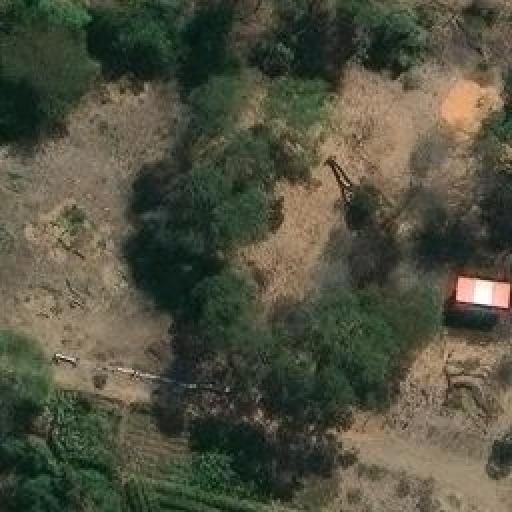manzanas: (445, 268, 510, 327)
